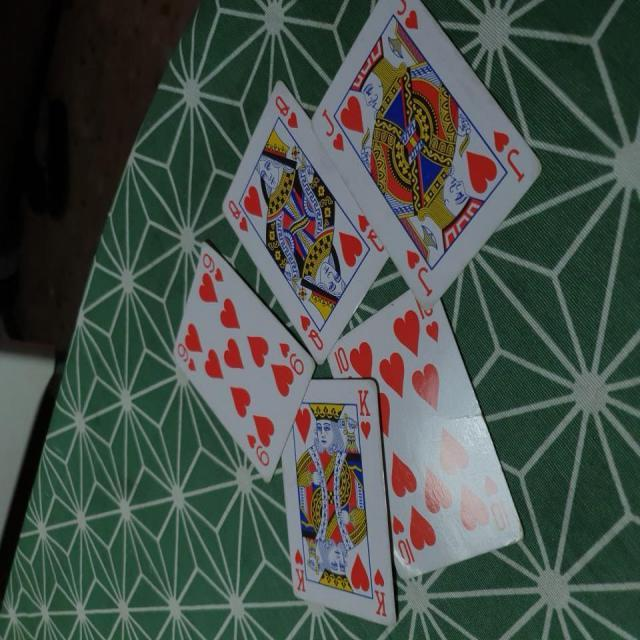10 of hearts: (324, 295, 531, 586)
9 of hearts: (172, 236, 324, 487)
jack of hearts: (296, 0, 542, 310)
king of hearts: (279, 369, 402, 632)
queen of hearts: (220, 74, 379, 368)
